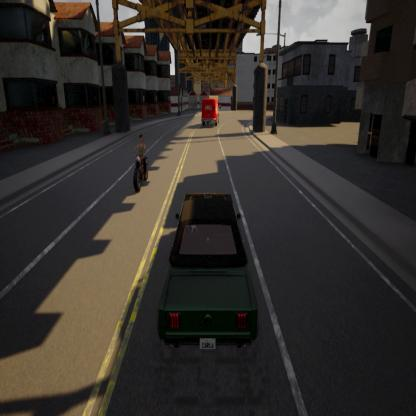Cars: (151, 168, 262, 405), (198, 90, 223, 137)
